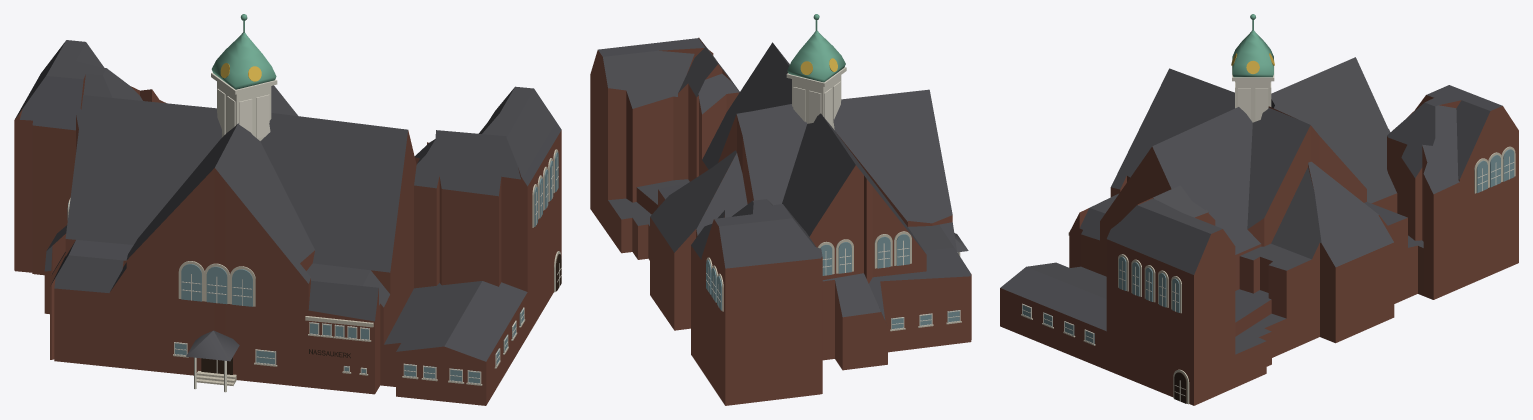
The model's file is nassaukerk.glb.
3 renders of one model, left to right at view 1: azimuth 30°, elevation 25°; view 2: azimuth 150°, elevation 25°; view 3: azimuth 270°, elevation 25°, orthographic. The views are drawn at different scales.
Parts seen in each view (by area): view 1: nassaukerk; view 2: nassaukerk; view 3: nassaukerk.
Boxes of the visible parts, <box> form: nassaukerk: <box>14,14,561,405</box>; nassaukerk: <box>590,14,971,405</box>; nassaukerk: <box>1000,14,1518,405</box>.
Size of the model in its own units: 43.18 by 27.38 by 47.57.
